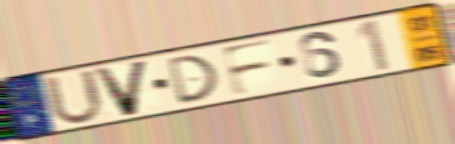1: (355, 17, 393, 74)
6: (298, 29, 345, 82)
D: (164, 52, 220, 107)
F: (218, 36, 276, 99)
U: (41, 67, 107, 127)
V: (90, 57, 153, 119)
